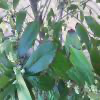Cherry leaf: (22, 40, 62, 78), (66, 41, 95, 91), (16, 18, 42, 61), (25, 74, 58, 92), (14, 8, 31, 40), (74, 21, 91, 48), (83, 13, 99, 41), (0, 63, 15, 81), (4, 40, 16, 60)
